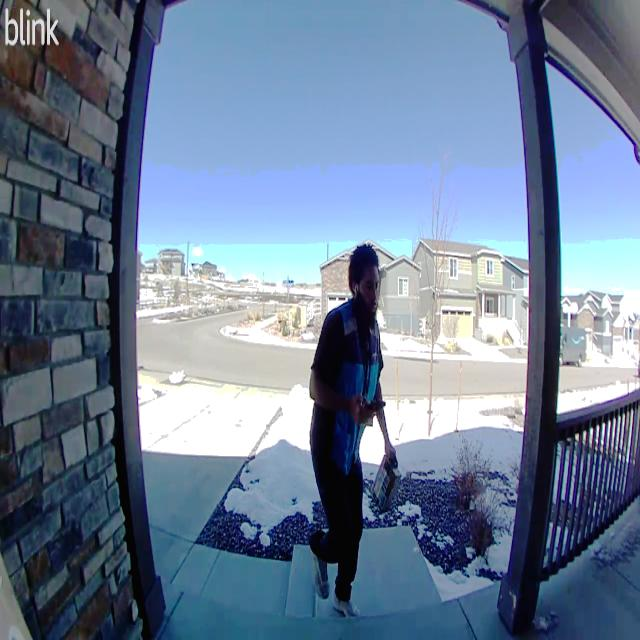Box: (370, 452, 401, 516)
